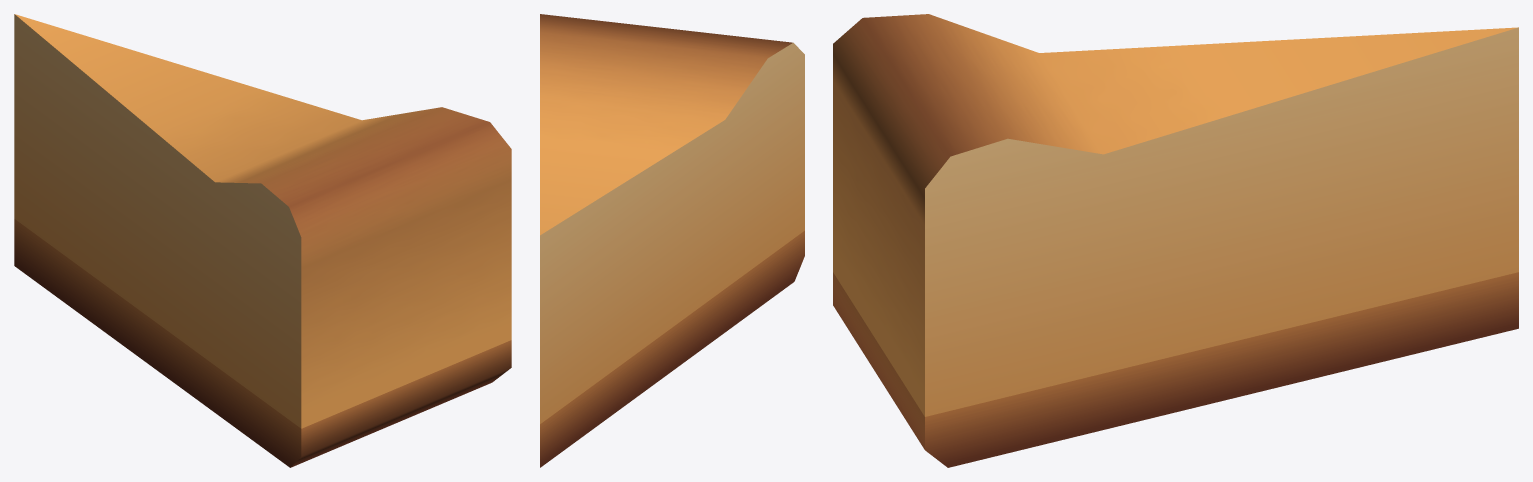
The model's file is m_GermanCheeseCake02_Slice.fbx.
3 views of the same model, side by side, from view 1: azimuth 30°, elevation 25°; view 2: azimuth 150°, elevation 25°; view 3: azimuth 270°, elevation 25° (orthographic). The views are drawn at different scales.
Parts seen in each view (by area): view 1: m_GermanCheeseCake02_Slice; view 2: m_GermanCheeseCake02_Slice; view 3: m_GermanCheeseCake02_Slice.
Part boxes in pixels (x1,y1,x2,y2): m_GermanCheeseCake02_Slice: [14, 14, 511, 467]; m_GermanCheeseCake02_Slice: [540, 14, 804, 467]; m_GermanCheeseCake02_Slice: [833, 14, 1518, 467].
Size of the model in its own units: 7 by 7.09 by 14.
